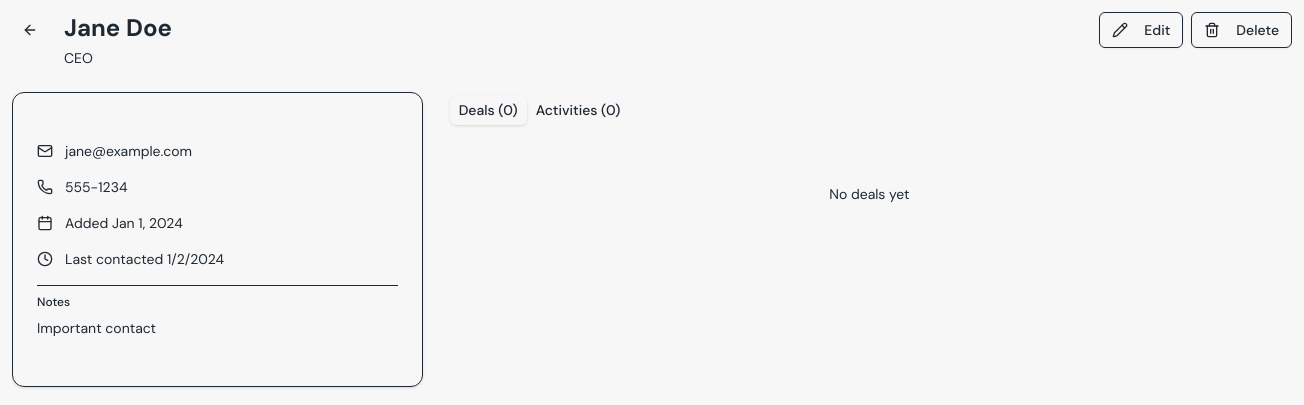
Test: ContactDetailPage › shows the empty activities message and renders activities when present
The width and height of the screenshot is (1304, 405).
Expected: the heading "Jane Doe" is shown, 64,12 -> 172,43
Step 1. Click the tab "Activities (0)" → click(578, 110), box 527,96 -> 630,124
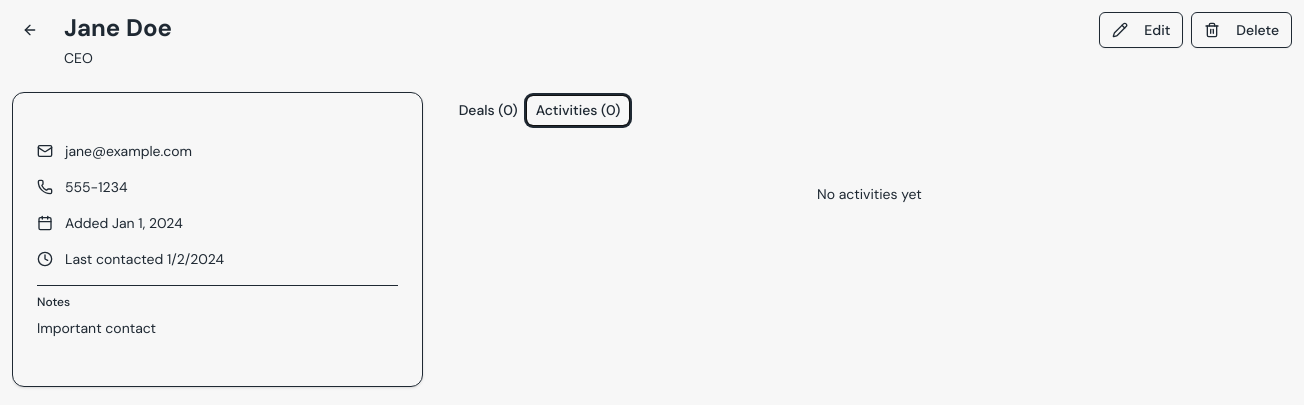
Expected: the text "No activities yet" is shown, 817,185 -> 922,203
